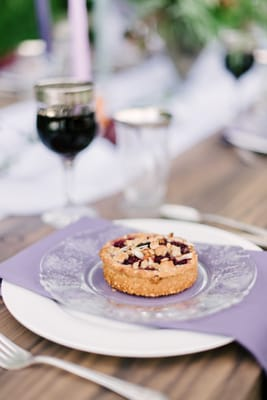burger: (0, 332, 34, 370)
